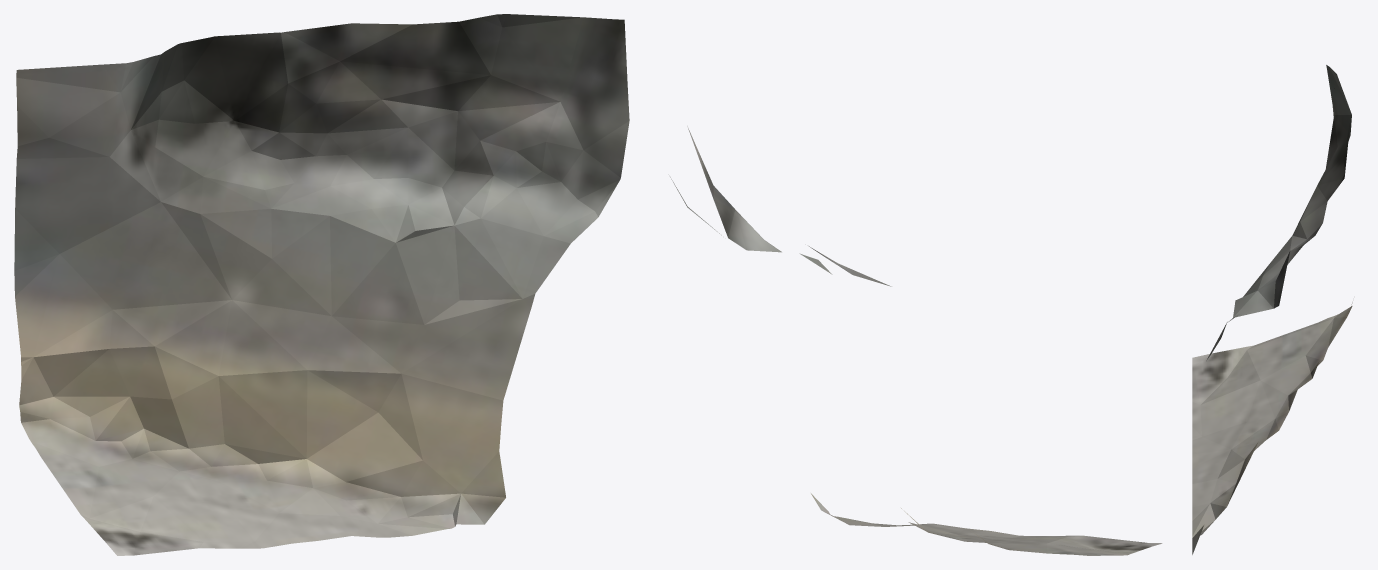
3 views of the same model, side by side, from view 1: azimuth 30°, elevation 25°; view 2: azimuth 150°, elevation 25°; view 3: azimuth 270°, elevation 25° (orthographic). The views are drawn at different scales.
Size of the model in its own units: 0.6149 by 0.54 by 0.2138.
1 material, 1 textured.
